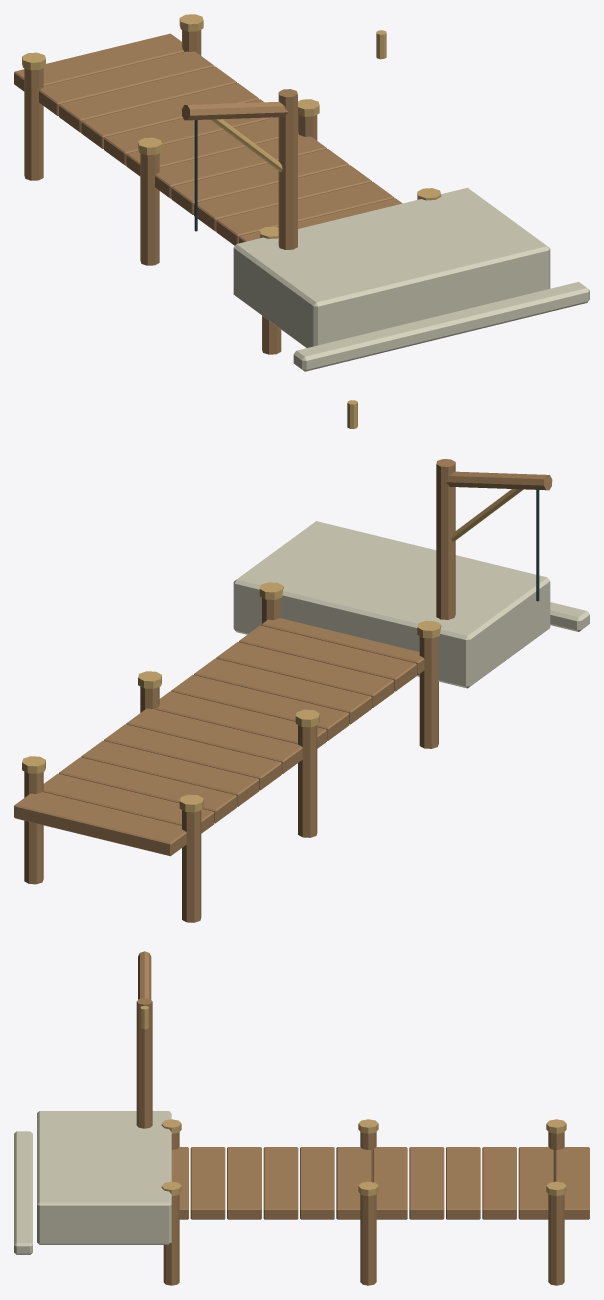
The model's file is level_09.glb.
The picture shows the model from 3 angles, top to bottom: view 1: azimuth 30°, elevation 25°; view 2: azimuth 150°, elevation 25°; view 3: azimuth 270°, elevation 25°; orthographic projection. The views are drawn at different scales.
Parts seen in each view (by area): view 1: dock — level 09; view 2: dock — level 09; view 3: dock — level 09.
Part boxes in pixels (box(x1,y1,x2,y2)): dock — level 09: box(14, 14, 589, 371); dock — level 09: box(14, 400, 589, 922); dock — level 09: box(14, 951, 589, 1285).
Size of the model in its own units: 4.53 by 4.08 by 8.55.
